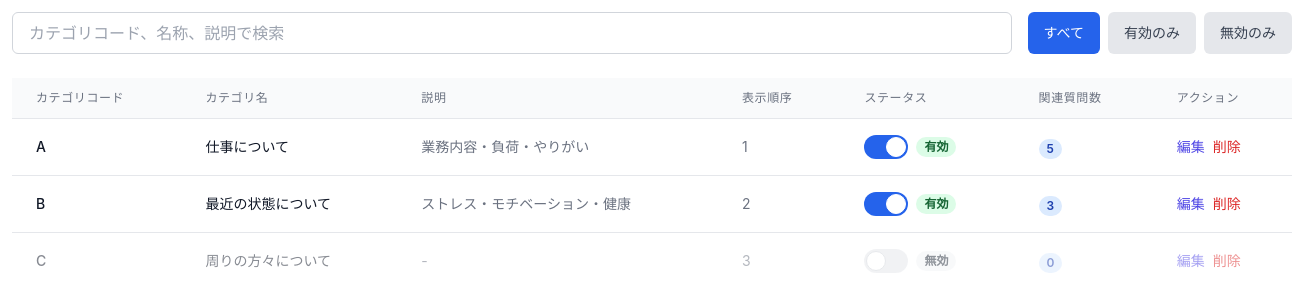
Test: CategoryTableWithFilter（統合テスト） › 検索とフィルタの組み合わせ › 検索とフィルタを同時に適用できる
The image size is (1304, 290).
Note: 「有効のみ」フィルタを適用
Click the button "有効のみ".
click(1152, 33)  # box left=1108, top=12, right=1196, bottom=54
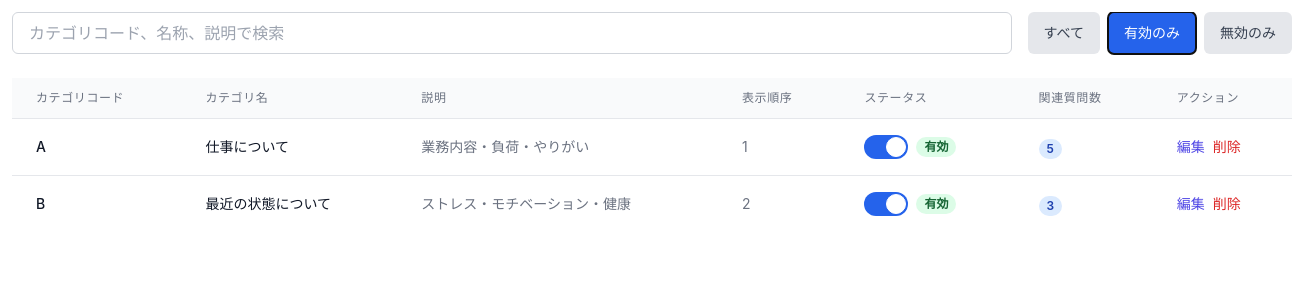
Note: さらに「仕事」で検索
Type "仕事" into the field with placeholder "カテゴリコード、名称、説明で検索".
click(512, 33); type("仕事")  # box left=12, top=12, right=1012, bottom=54
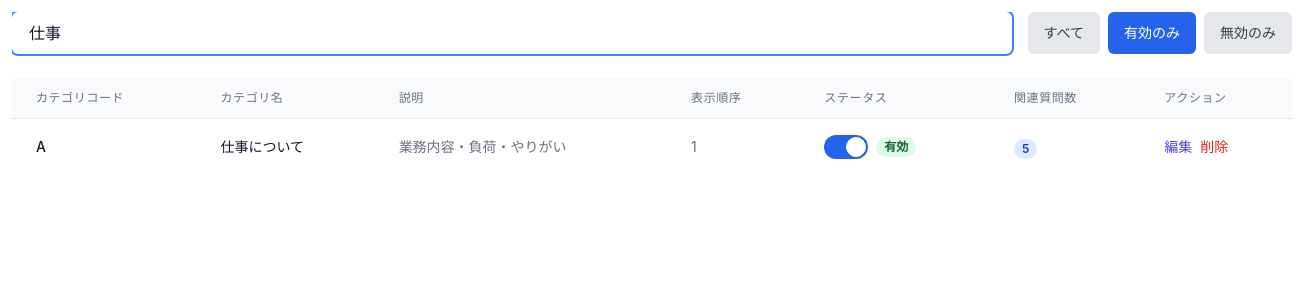
Expected: the text "仕事について" is shown, left=196, top=118, right=375, bottom=175
Expected: the text "最近の状態について" is gone
